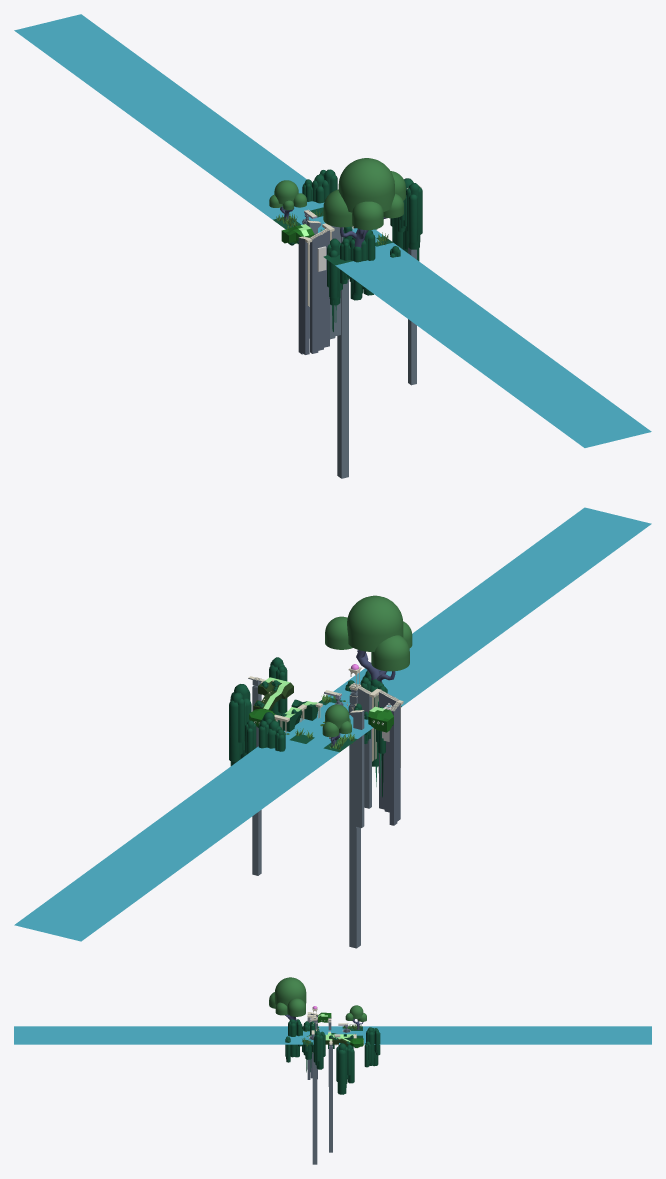
Rendered from Level 4.fbx.
The picture shows the model from 3 angles, top to bottom: view 1: azimuth 30°, elevation 25°; view 2: azimuth 150°, elevation 25°; view 3: azimuth 270°, elevation 25°; orthographic projection. The views are drawn at different scales.
Parts seen in each view (by area): view 1: Plane.025, Circle.033, Sphere.002, Cube.148, Cube.157, Cube.124, Sphere.004, Circle.026; view 2: Plane.025, Circle.033, Sphere.002, Cube.148, Cube.161, Cube.124, Cube.026, Circle.026, Cube.157, Cube.158; view 3: Plane.025, Sphere.002, Circle.033, Cube.148, Cube.026, Sphere.004, Circle.026.
Boxes of the visible parts, <box> form: Plane.025: <box>14,14,651,447</box>; Circle.033: <box>323,158,405,247</box>; Sphere.002: <box>302,169,419,331</box>; Cube.148: <box>337,227,348,478</box>; Cube.157: <box>310,229,329,353</box>; Cube.124: <box>298,238,309,354</box>; Sphere.004: <box>405,183,422,249</box>; Circle.026: <box>269,180,306,220</box>; Plane.025: <box>14,507,651,941</box>; Circle.033: <box>325,595,412,682</box>; Sphere.002: <box>229,666,387,797</box>; Cube.148: <box>349,695,360,948</box>; Cube.161: <box>350,710,364,828</box>; Cube.124: <box>389,704,400,825</box>; Cube.026: <box>248,676,265,875</box>; Circle.026: <box>322,704,351,747</box>; Cube.157: <box>379,691,398,812</box>; Cube.158: <box>357,687,371,808</box>; Plane.025: <box>14,1026,651,1044</box>; Sphere.002: <box>285,1019,380,1094</box>; Circle.033: <box>269,977,306,1020</box>; Cube.148: <box>312,1022,317,1164</box>; Cube.026: <box>329,1040,332,1152</box>; Sphere.004: <box>313,1031,323,1069</box>; Circle.026: <box>345,1005,366,1029</box>.
Size of the model in its own units: 2813 by 6108 by 19074.
